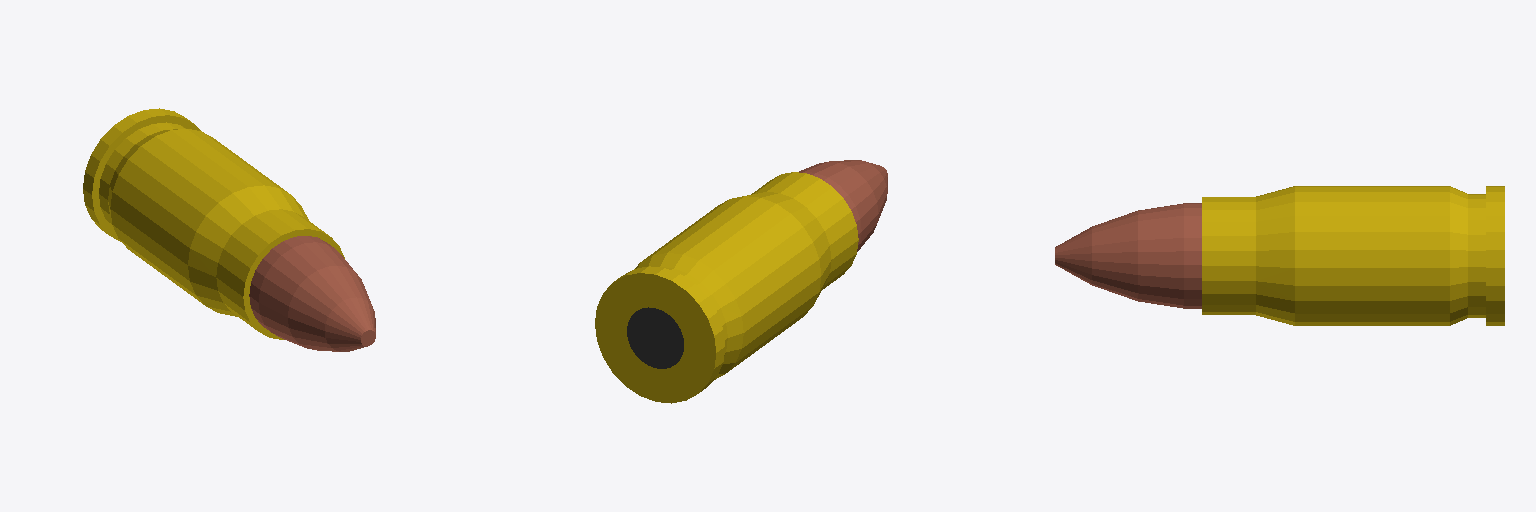
The model's file is ammo_machinegun.obj.
3 renders of one model, left to right at view 1: azimuth 30°, elevation 25°; view 2: azimuth 150°, elevation 25°; view 3: azimuth 270°, elevation 25°, orthographic.
Parts seen in each view (by area): view 1: ammo_machinegun; view 2: ammo_machinegun; view 3: ammo_machinegun.
Boxes of the visible parts, x1,y1,x2,y2 form: ammo_machinegun: [83, 108, 375, 351]; ammo_machinegun: [595, 160, 887, 403]; ammo_machinegun: [1055, 186, 1504, 325].
Size of the model in its own units: 0.0046 by 0.0046 by 0.0147.